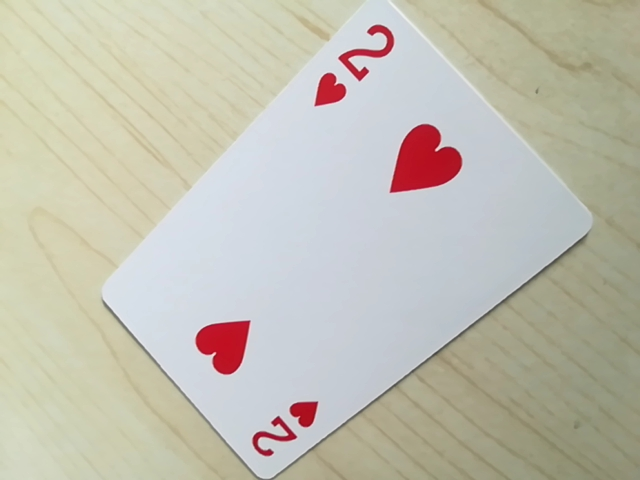hx 2: (311, 16, 398, 110), (239, 397, 323, 469)
